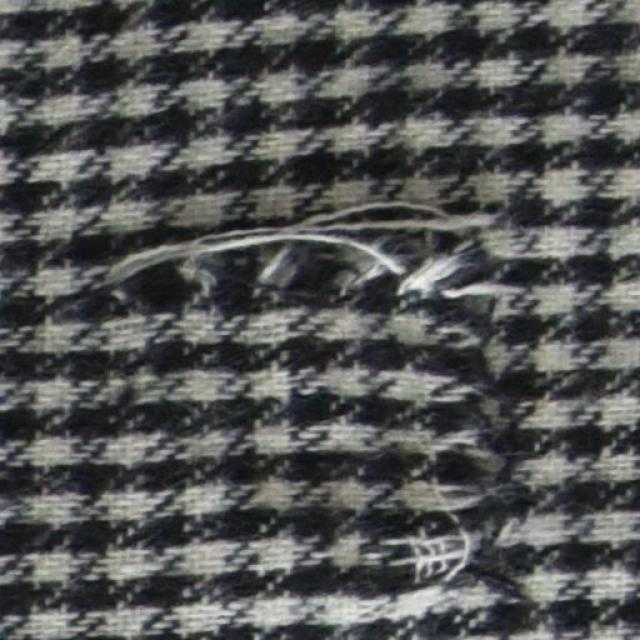Snag: (73, 195, 521, 607)
